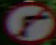Don't turn right: (9, 6, 48, 38)
